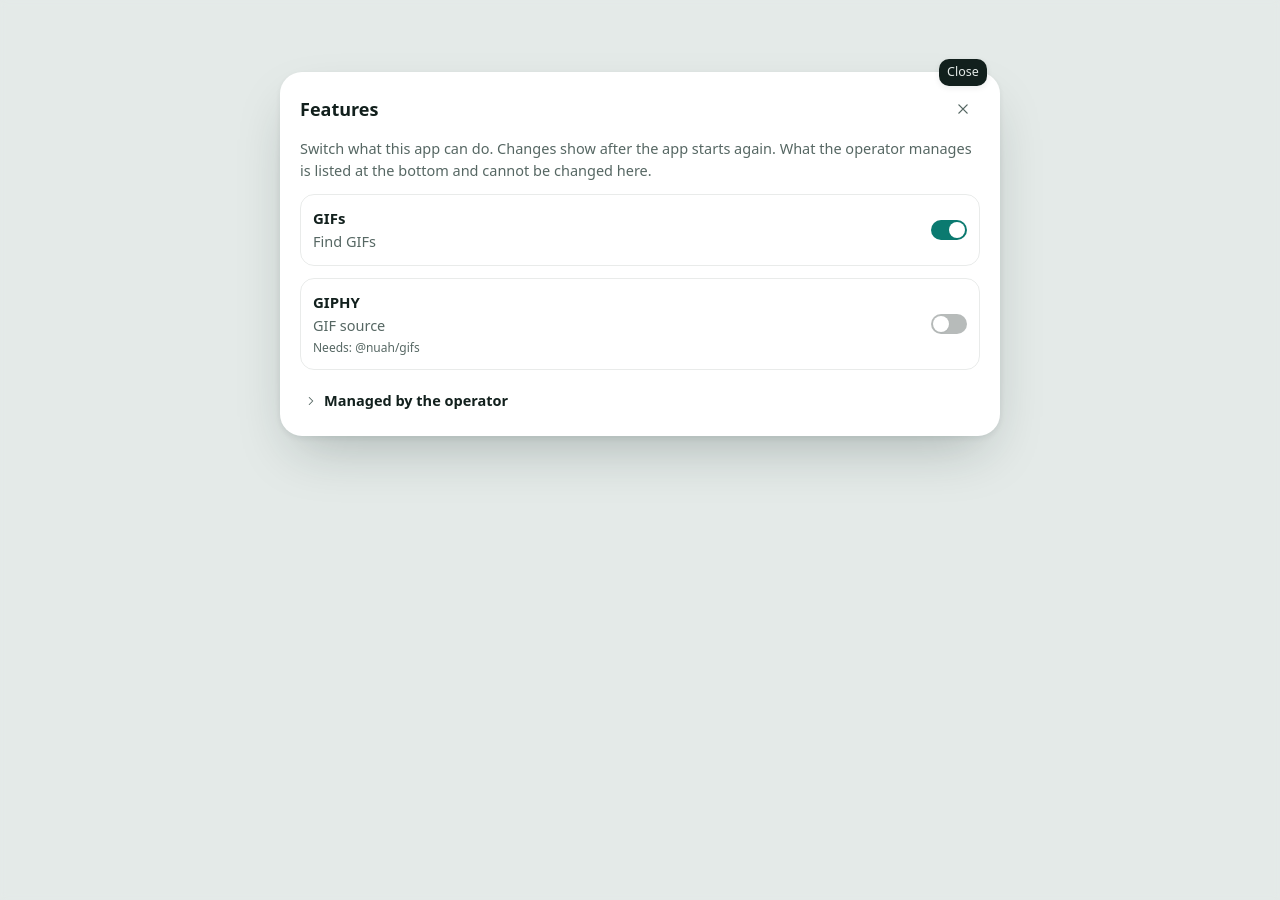
it: the Features page › switching a feature on asks the Core, then offers to start the app again
This screenshot has width=1280, height=900.
What coordinates should you click on to do the following:
click the switch named "GIPHY"
I would click on:
 (949, 324)
Its box is [931, 314, 967, 334].
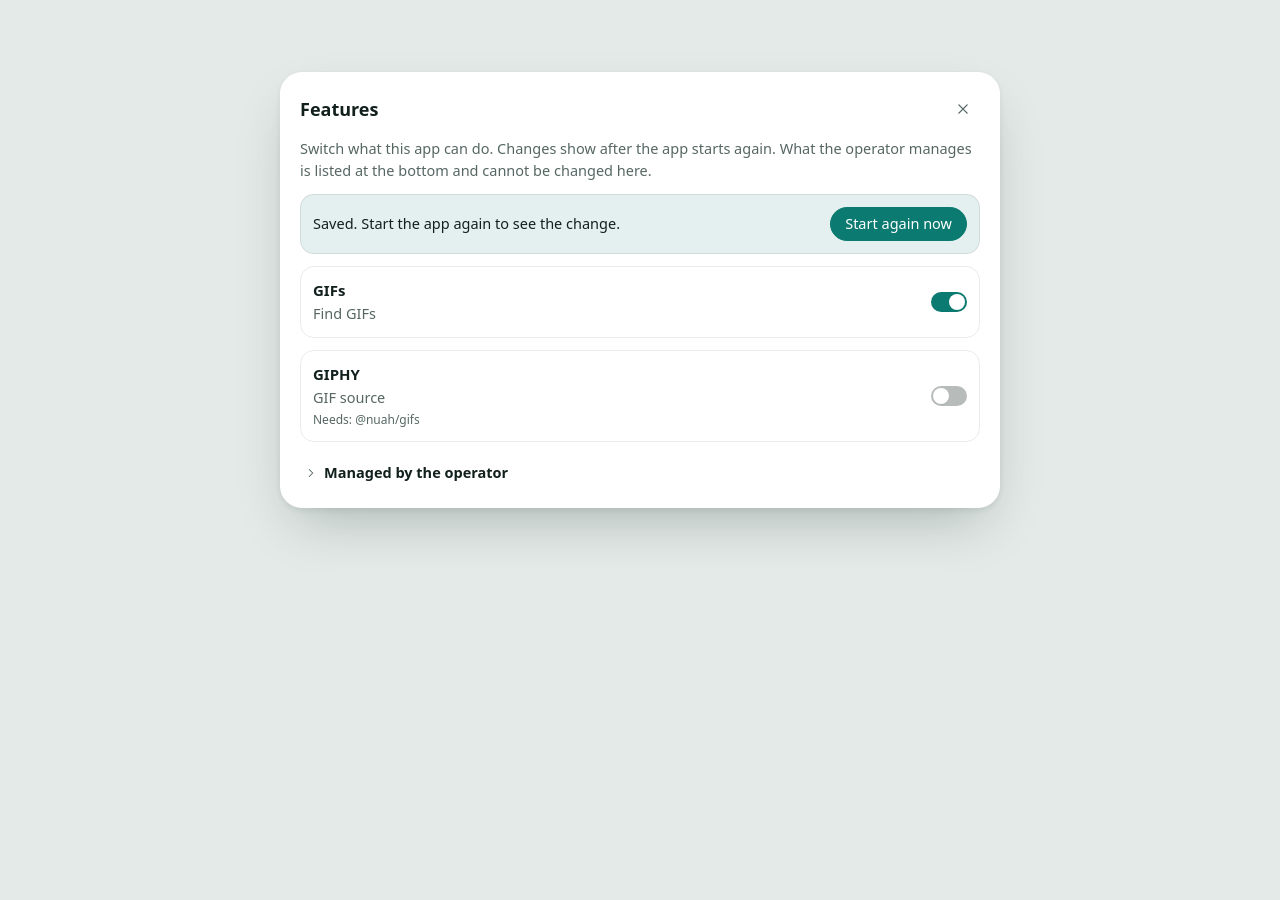
Result: the text "Saved. Start the app again to see the change." is shown at [313, 213, 620, 234]
